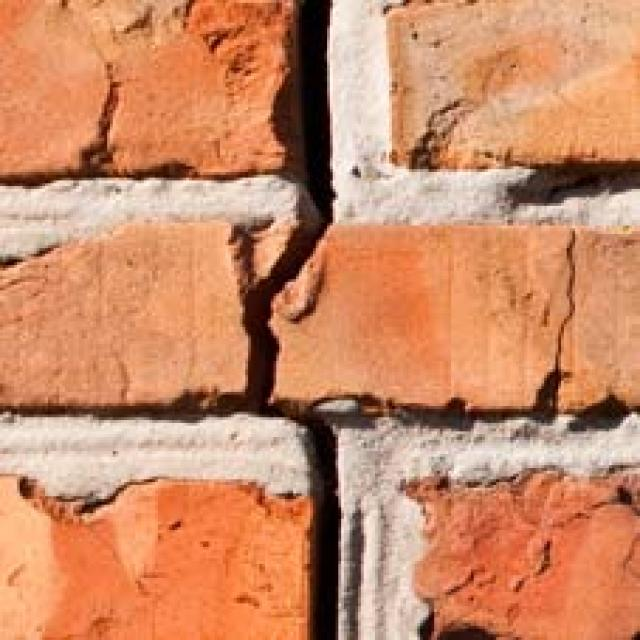Crack: (168, 0, 434, 640)
